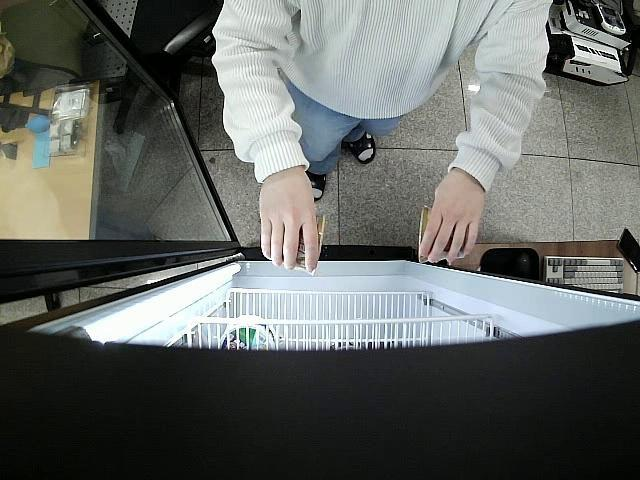04_chapagetti_S: (418, 204, 467, 260), (295, 212, 326, 270)
